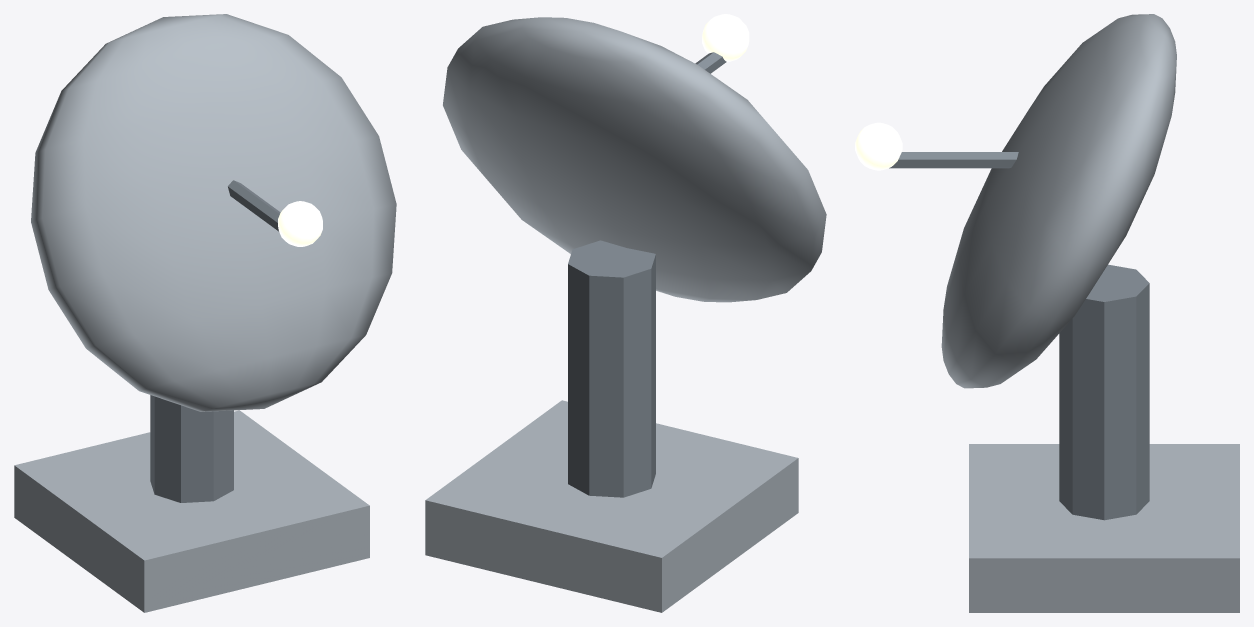
The model's file is fortress__radar.fbx.
3 views of the same model, side by side, from view 1: azimuth 30°, elevation 25°; view 2: azimuth 150°, elevation 25°; view 3: azimuth 270°, elevation 25° (orthographic). The views are drawn at different scales.
Parts seen in each view (by area): view 1: fortress__radar; view 2: fortress__radar; view 3: fortress__radar.
Part boxes in pixels (x1=…): fortress__radar: x1=14, y1=14, x2=396, y2=612; fortress__radar: x1=425, y1=14, x2=826, y2=612; fortress__radar: x1=855, y1=14, x2=1239, y2=612.
Size of the model in its own units: 2.69 by 3.81 by 2.56.
